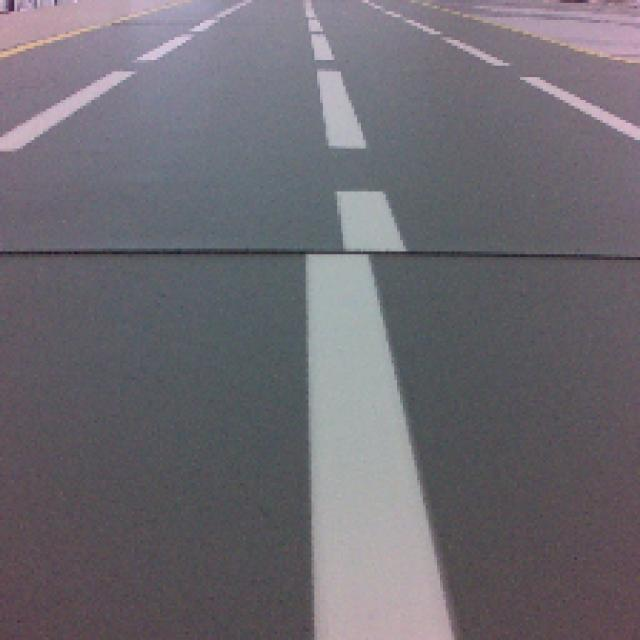Pedestrian crosswalk: (308, 254, 458, 640)
